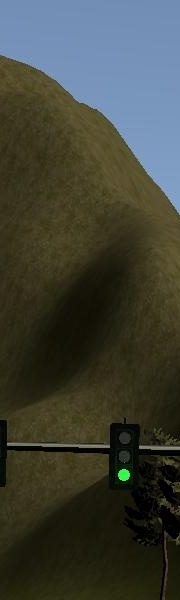Green: (108, 422, 140, 493)
